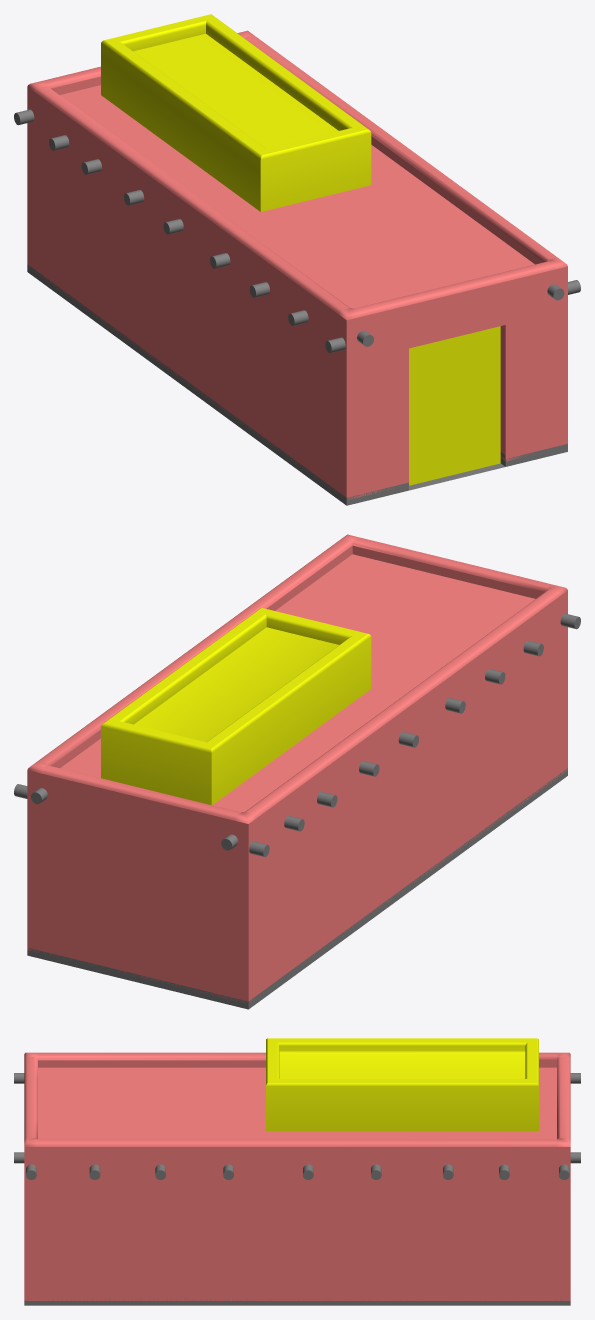
The model's file is Storage_Barn.FBX.
3 renders of one model, top to bottom at view 1: azimuth 30°, elevation 25°; view 2: azimuth 150°, elevation 25°; view 3: azimuth 270°, elevation 25°, orthographic. The views are drawn at different scales.
Parts seen in each view (by area): view 1: Phase02_Walls, Phase03_Door, Phase01_Foundation; view 2: Phase02_Walls, Phase03_Door, Phase01_Foundation; view 3: Phase02_Walls, Phase03_Door, Phase01_Foundation.
Part boxes in pixels (x1,y1,x2,y2): Phase02_Walls: (27,30,567,499); Phase03_Door: (101,14,500,485); Phase01_Foundation: (14,109,580,505); Phase02_Walls: (27,534,567,1002); Phase03_Door: (101,608,371,805); Phase01_Foundation: (14,613,580,1009); Phase02_Walls: (24,1052,570,1300); Phase03_Door: (266,1038,538,1131); Phase01_Foundation: (14,1073,580,1305).
Bounding box in the file's own units: 451 × 401 × 1037.
